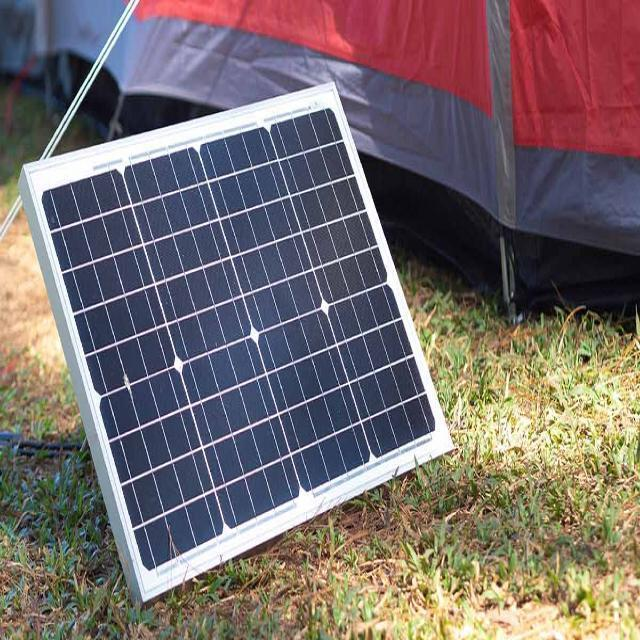Normal Solar Panel: (24, 90, 450, 600)
